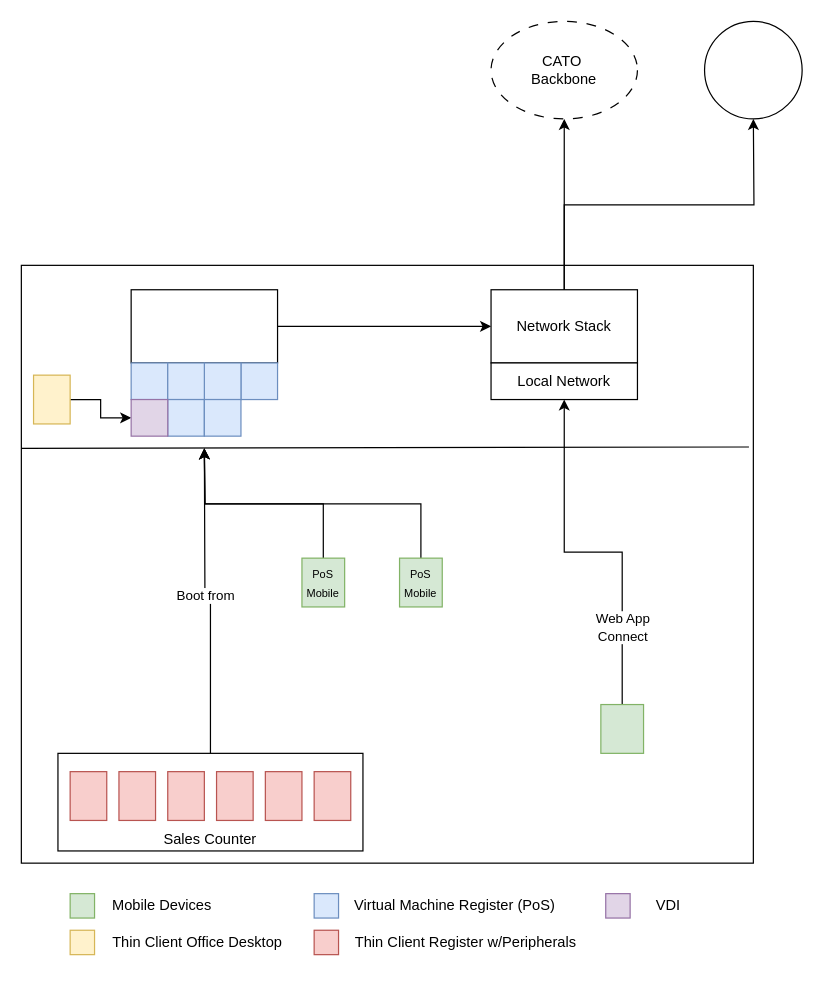
Image size: 824x982. Some labels were removed from this diagram. The shapes that lost their labels are listed below. From the top down, each one's centre as x and y in pixels, then its label:
At point (752, 69): "Mobile BB".
At point (204, 326): "Edge Compute (x3)".
At point (622, 728): "Salon".
